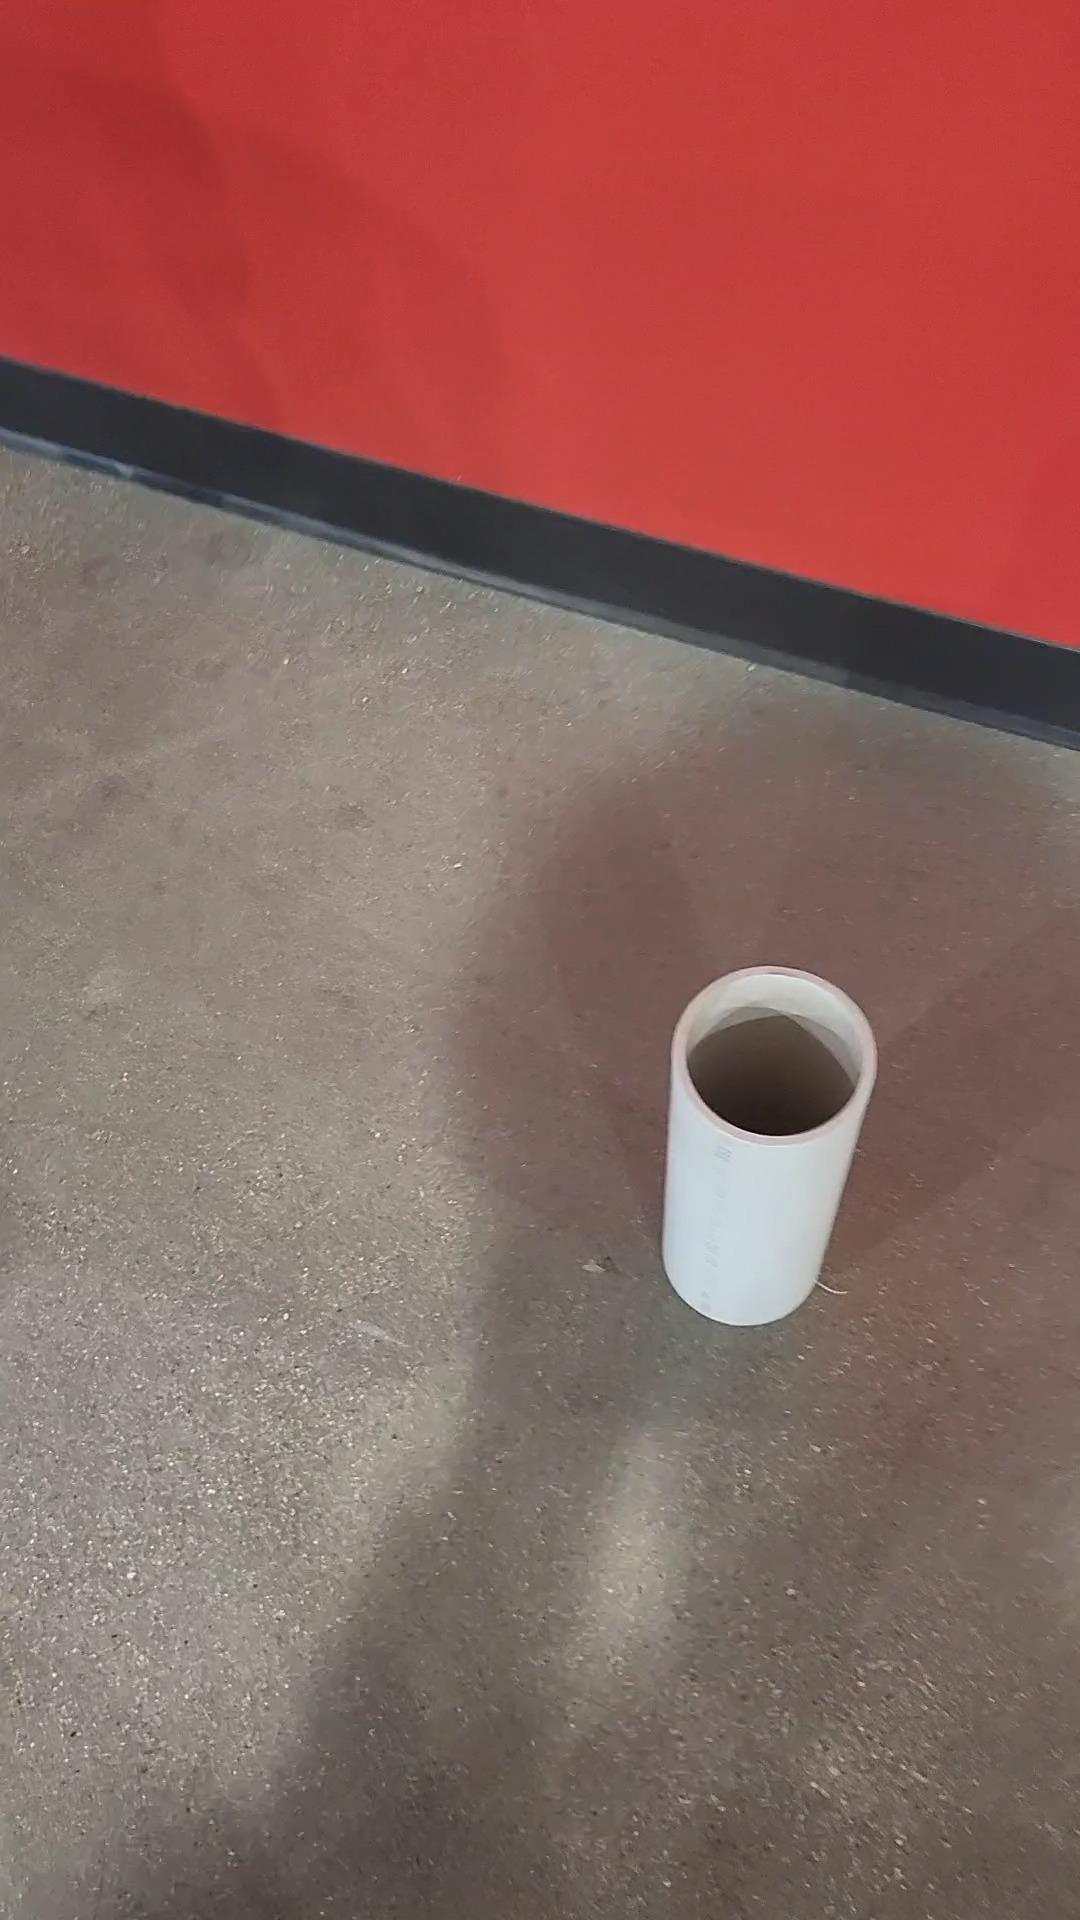coral: (659, 960, 884, 1333)
